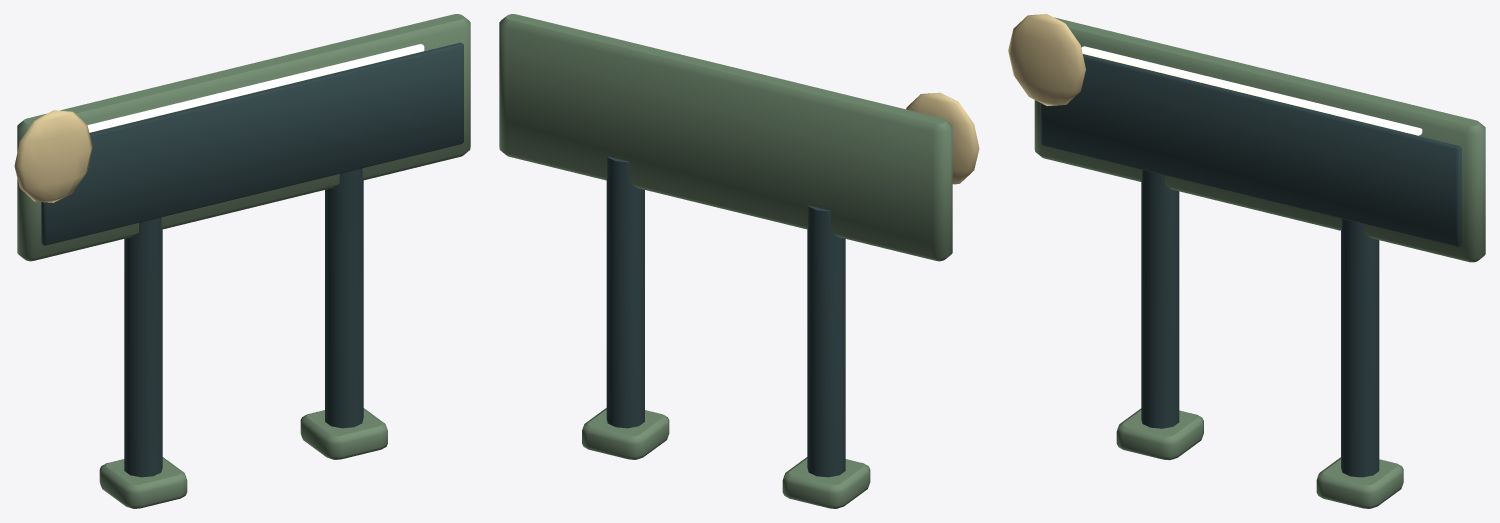
File: billboard_3.glb
The picture shows the model from 3 angles, left to right: view 1: azimuth 30°, elevation 25°; view 2: azimuth 150°, elevation 25°; view 3: azimuth 330°, elevation 25°; orthographic projection.
Visible parts, largest first — view 1: Billboard; view 2: Billboard; view 3: Billboard.
Boxes of the visible parts, bbox=[...] form: Billboard: bbox=[14, 14, 470, 508]; Billboard: bbox=[499, 14, 979, 508]; Billboard: bbox=[1008, 14, 1485, 508].
Bounding box in the file's own units: 4.71 × 4.02 × 0.6364.
